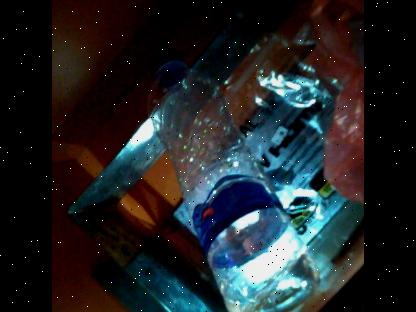Plastic Bottle: (141, 48, 318, 312)
